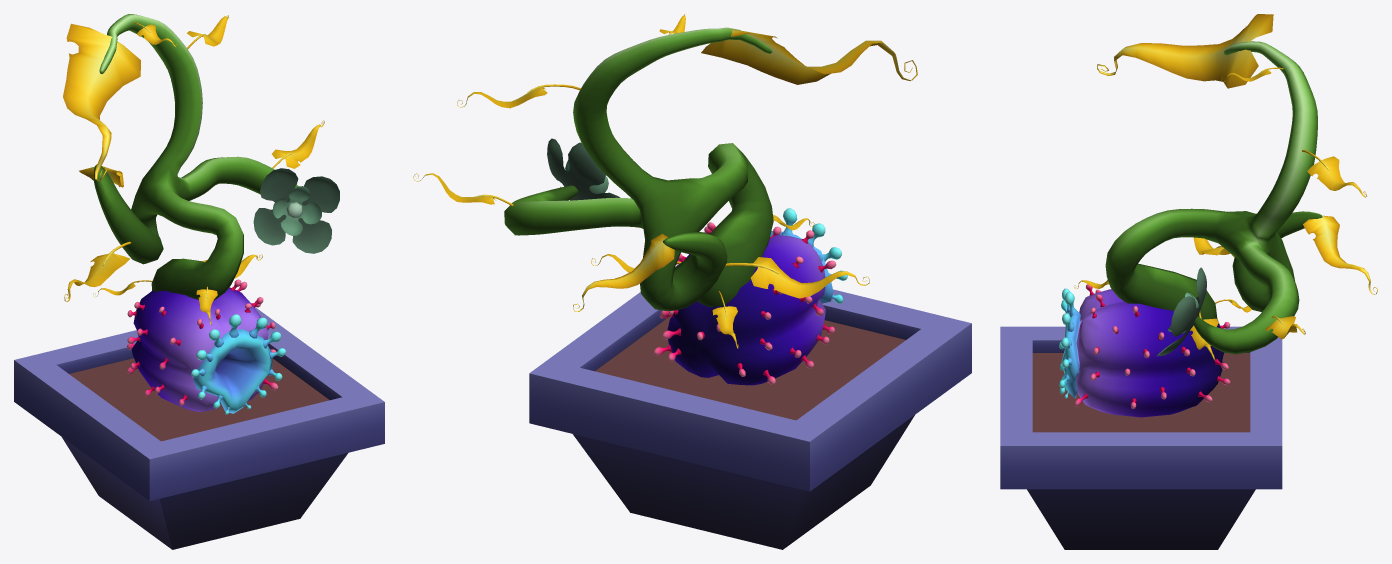
Rendered from wp_wPot_6.fbx.
3 renders of one model, left to right at view 1: azimuth 30°, elevation 25°; view 2: azimuth 150°, elevation 25°; view 3: azimuth 270°, elevation 25°, orthographic. The views are drawn at different scales.
Visible parts, largest first — view 1: w_pl6; view 2: w_pl6; view 3: w_pl6.
Boxes of the visible parts, x1=… form: w_pl6: x1=14, y1=14, x2=384, y2=549; w_pl6: x1=413, y1=14, x2=971, y2=549; w_pl6: x1=1000, y1=14, x2=1377, y2=549.
Size of the model in its own units: 152 by 203 by 147.
